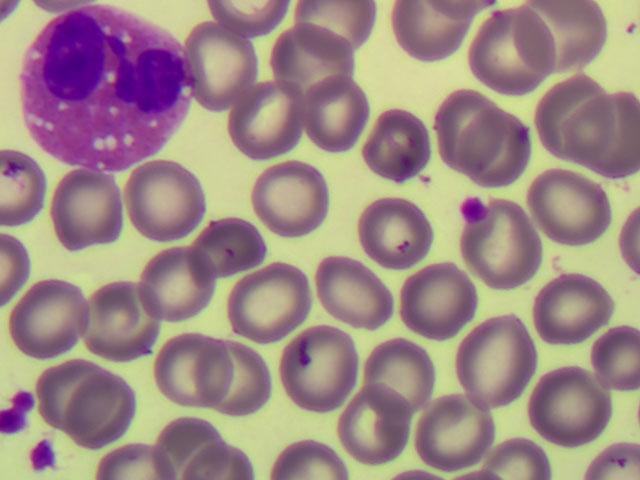Platelets: (459, 195, 487, 226), (28, 440, 54, 471), (1, 410, 23, 434), (12, 391, 33, 410)
RBC: (453, 314, 534, 408), (534, 72, 619, 159), (186, 340, 277, 420), (155, 326, 240, 411), (270, 18, 355, 102), (469, 7, 551, 94), (280, 324, 359, 414), (513, 1, 612, 72), (78, 280, 163, 361), (527, 164, 612, 244), (314, 253, 397, 332), (125, 161, 203, 245), (566, 97, 640, 185), (530, 356, 600, 449), (228, 259, 308, 338), (455, 107, 534, 186), (8, 280, 85, 360), (135, 247, 222, 317), (301, 70, 369, 156), (51, 168, 122, 249), (397, 264, 473, 339), (231, 80, 300, 162), (358, 107, 432, 182), (61, 369, 134, 445), (339, 386, 410, 464), (251, 163, 327, 235), (190, 22, 251, 110), (537, 273, 612, 344), (366, 338, 434, 416), (423, 395, 493, 470), (438, 86, 499, 172), (392, 1, 462, 75), (32, 357, 103, 428), (362, 194, 432, 266), (489, 197, 541, 289), (291, 2, 384, 51), (155, 424, 232, 480), (587, 325, 640, 396), (192, 221, 267, 269), (1, 151, 46, 227), (268, 438, 349, 480), (489, 434, 559, 480), (99, 443, 174, 480), (208, 1, 291, 33), (181, 443, 249, 480), (1, 230, 30, 299), (589, 443, 640, 480), (618, 210, 640, 282), (431, 1, 492, 18)
WBC: (28, 13, 185, 162)
